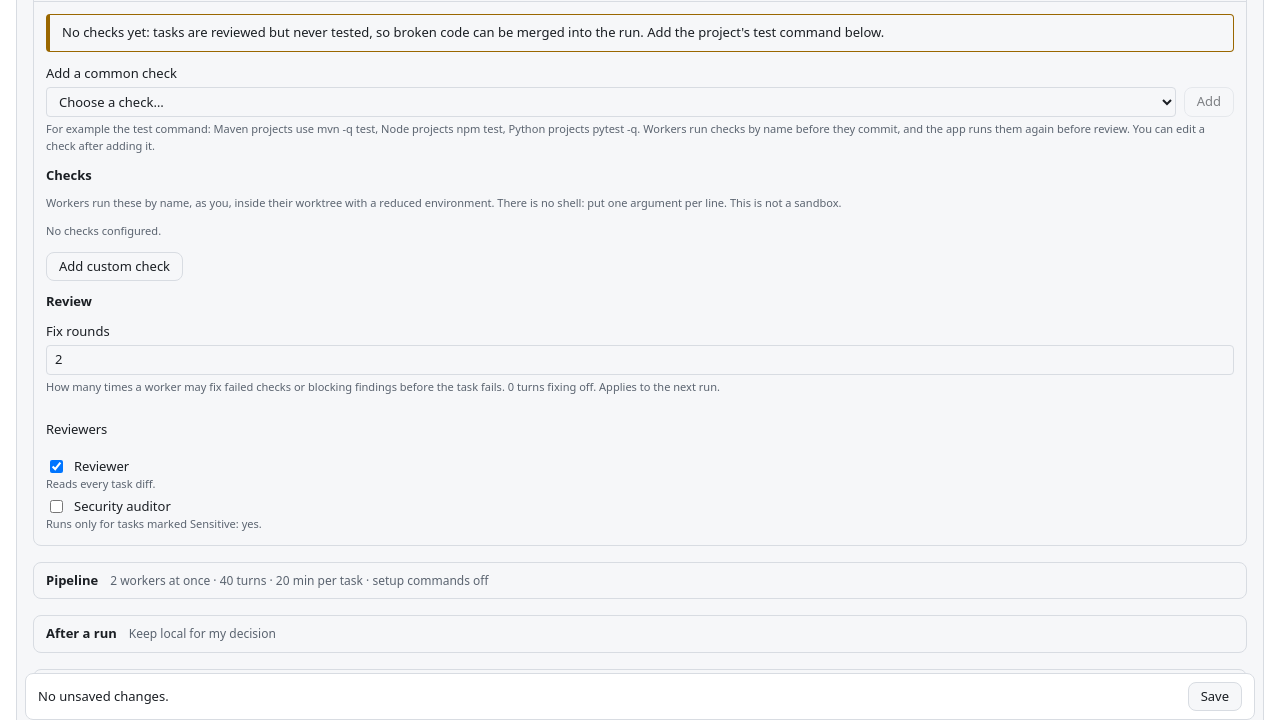
Scenario: review settings › disables Save with a message for "6"
(page scrolled)
Replace the text in the field labelled "Fix rounds" with "6": (640, 360) left=46, top=345, right=1234, bottom=375
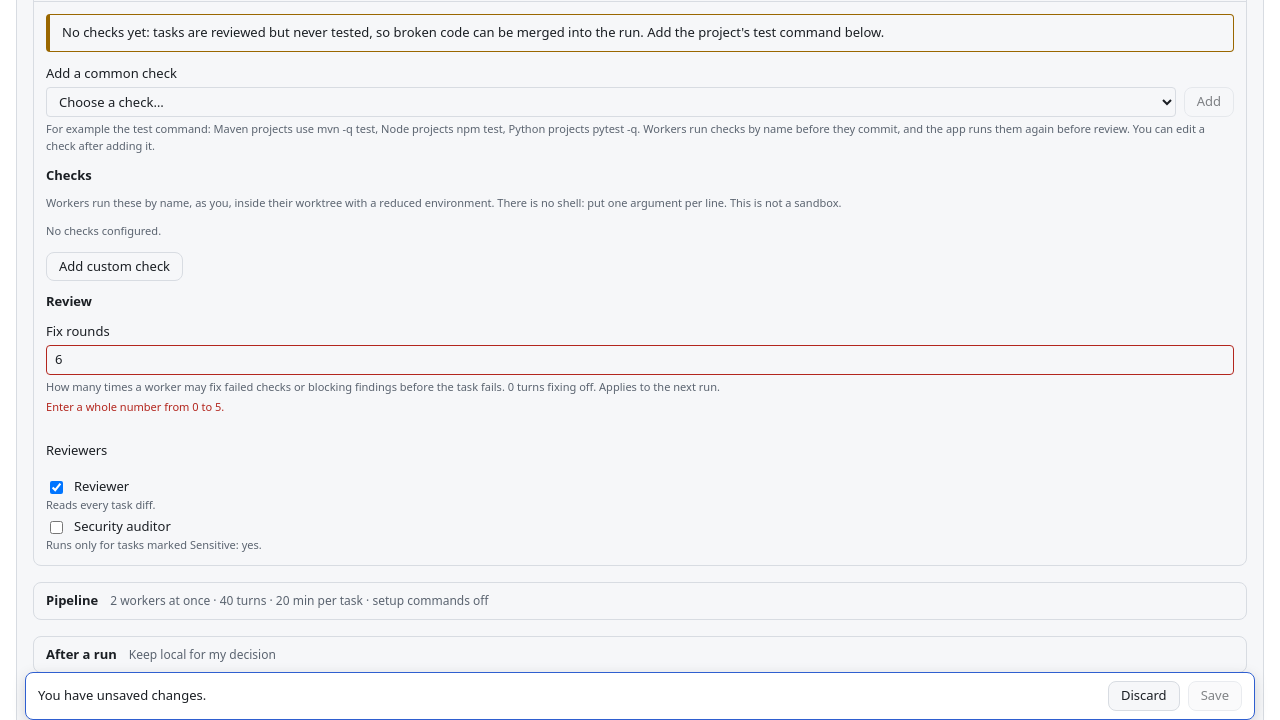
expect the button "Save" is disabled: met, box left=1188, top=682, right=1242, bottom=711
expect the message "Enter a whole number from 0 to 5." is shown: met, box left=46, top=399, right=224, bottom=414
